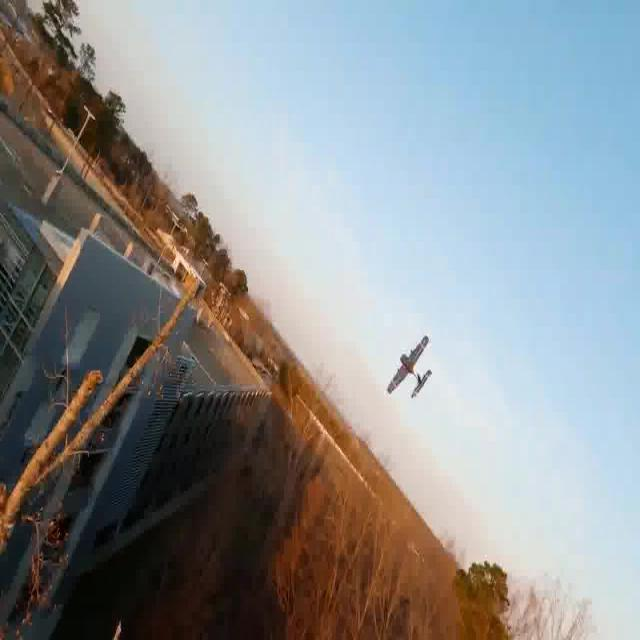iha: (382, 354, 433, 380)
